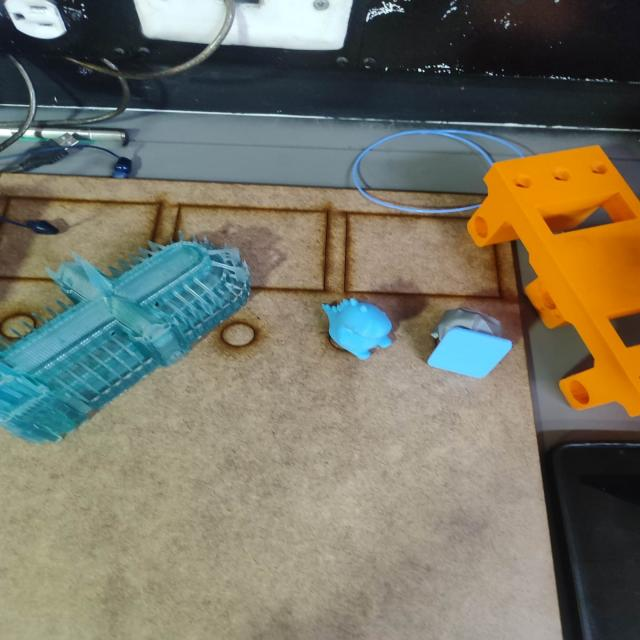DINO: (311, 295, 408, 369)
